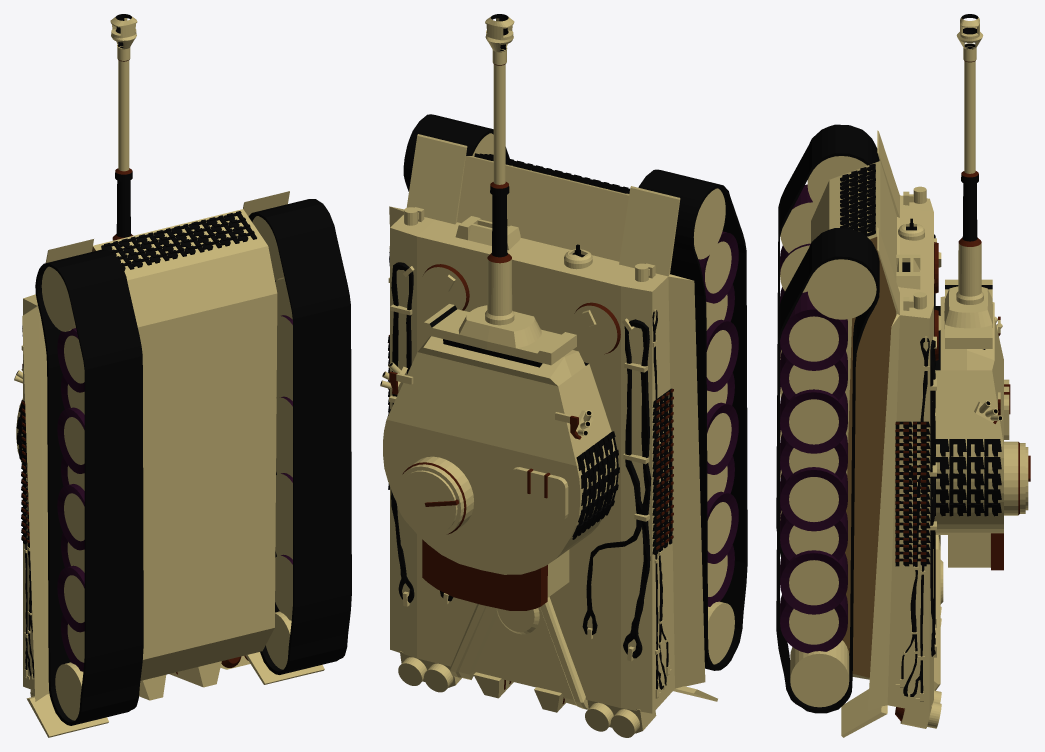
The model's file is PzVI.fbx.
3 renders of one model, left to right at view 1: azimuth 30°, elevation 25°; view 2: azimuth 150°, elevation 25°; view 3: azimuth 270°, elevation 25°, orthographic. The views are drawn at different scales.
Visible parts, largest first — view 1: Wheel, TankBase, Armor2, EnginA, 88TankGun, 88TankGunBase, Armor3, AdditionalGun88, SideWire; view 2: TankBase, Turret, Wheel, SideWire, EnginA, 88TankGunBase, AmmoBox, Armor3, captain Cover, Armor, Gunner Cover, captain (+8 smaller); view 3: Wheel, TankBase, Turret, 88TankGunBase, Armor3, Armor, SideWire, Armor2, AmmoBox, EnginA, captain, 88TankGun (+3 smaller).
Boxes of the visible parts, x1,y1,x2,y2 form: Wheel: (35,199,351,725); TankBase: (22,191,324,737); Armor2: (101,211,256,270); EnginA: (30,655,250,700); 88TankGun: (118,46,129,171); 88TankGunBase: (112,168,133,240); Armor3: (21,400,29,547); AdditionalGun88: (110,14,137,61); SideWire: (21,325,34,679); TankBase: (389,134,717,713); Turret: (383,336,616,574); Wheel: (403,114,747,670); SideWire: (388,246,671,698); EnginA: (398,597,656,737); 88TankGunBase: (424,182,576,365); AmmoBox: (422,539,569,610); Armor3: (387,335,673,554); captain Cover: (397,470,458,534); Armor: (387,409,619,539); Gunner Cover: (509,467,568,521); captain: (395,456,473,537); Wheel: (776,124,879,713); TankBase: (811,130,933,737); Turret: (934,296,1003,534); 88TankGunBase: (944,171,992,348); Armor3: (895,421,930,566); Armor: (935,439,1001,516); SideWire: (895,234,936,701); Armor2: (840,163,875,236); AmmoBox: (948,533,1003,570); EnginA: (852,535,941,728); captain: (1004,441,1025,515); 88TankGun: (964,46,975,173).
Bounding box in the file's own units: 2581 × 5714 × 1988.
